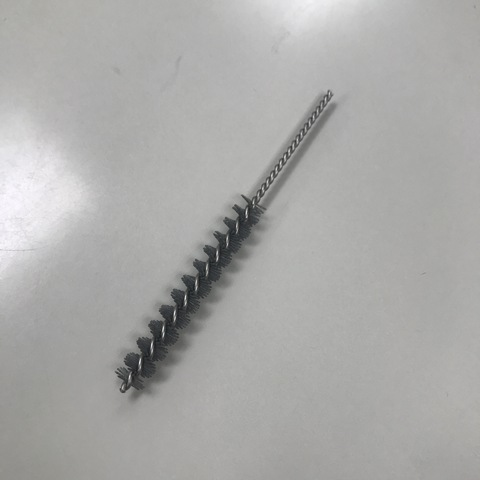Twist Brush-A: (115, 89, 338, 397)
